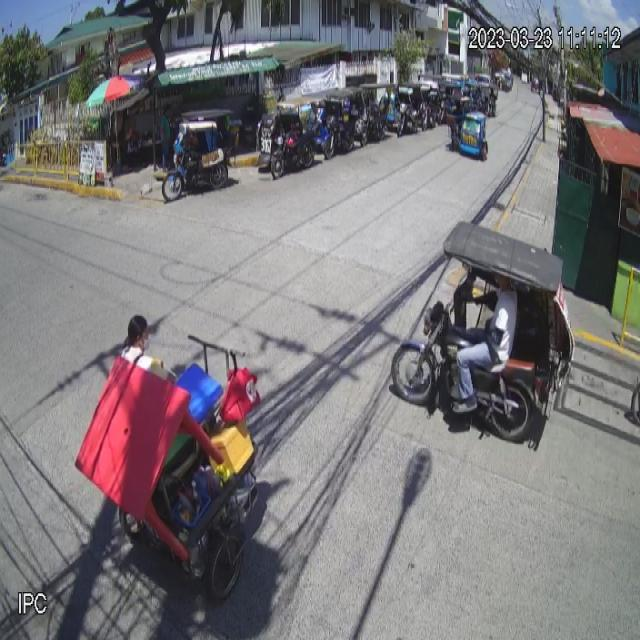Tricycle: (390, 220, 576, 447)
